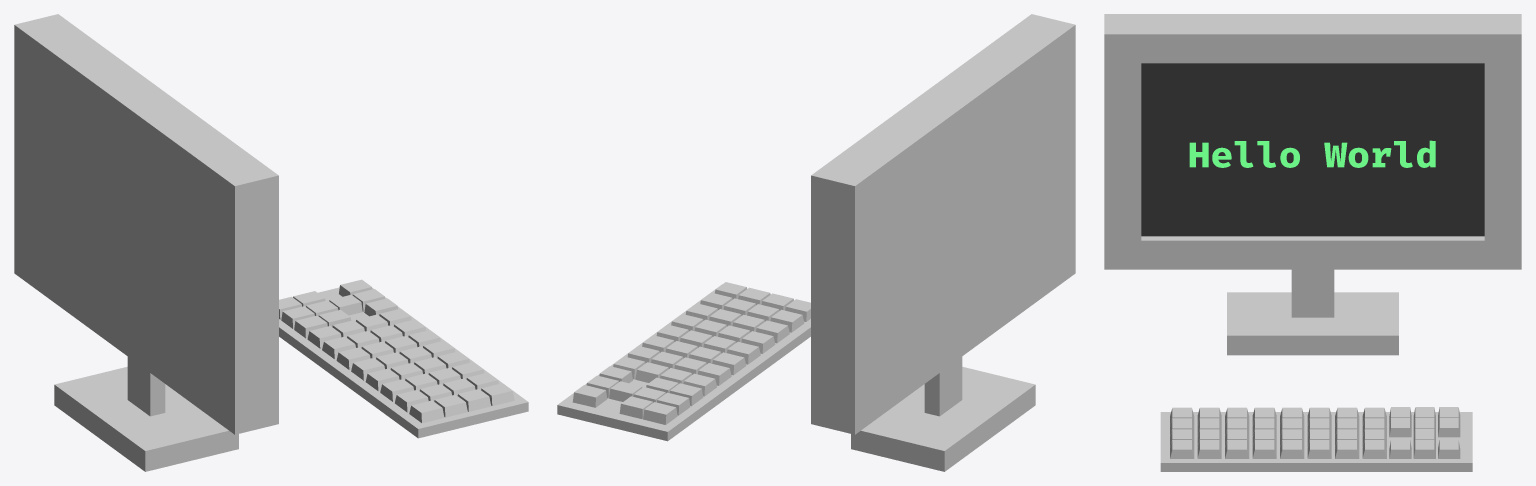
3 views of the same model, side by side, from view 1: azimuth 30°, elevation 25°; view 2: azimuth 150°, elevation 25°; view 3: azimuth 270°, elevation 25° (orthographic). The views are drawn at different scales.
Parts seen in each view (by area): view 1: Cube, Cube.001; view 2: Cube, Cube.001; view 3: Cube, Cube.001, Text.
Boxes of the visible parts, bbox=[...] form: Cube: bbox=[14, 14, 278, 471]; Cube.001: bbox=[279, 279, 528, 438]; Cube: bbox=[811, 14, 1075, 471]; Cube.001: bbox=[557, 282, 810, 441]; Cube: bbox=[1104, 14, 1521, 355]; Cube.001: bbox=[1160, 407, 1472, 471]; Text: bbox=[1189, 140, 1435, 167].
Bounding box in the file's own units: 2 × 1.8 × 2.19.
